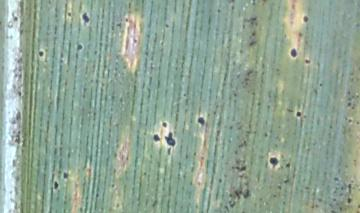tarspot: (164, 131, 180, 148), (80, 9, 92, 26), (287, 45, 299, 61), (268, 155, 280, 168), (196, 114, 207, 127), (150, 133, 162, 143), (61, 169, 71, 181), (36, 48, 46, 59), (75, 42, 86, 52), (294, 108, 303, 120), (51, 179, 59, 190), (302, 13, 309, 25), (284, 161, 293, 170), (303, 57, 313, 65), (65, 9, 73, 19), (159, 120, 170, 127)
